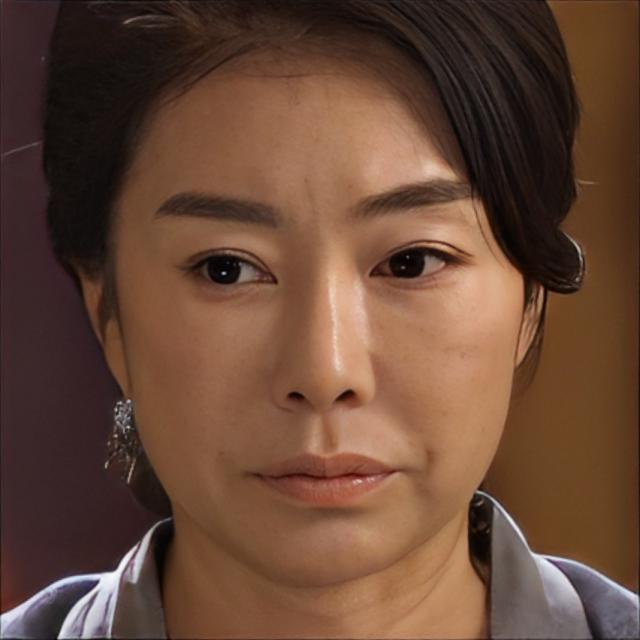sad: (118, 31, 522, 586)
